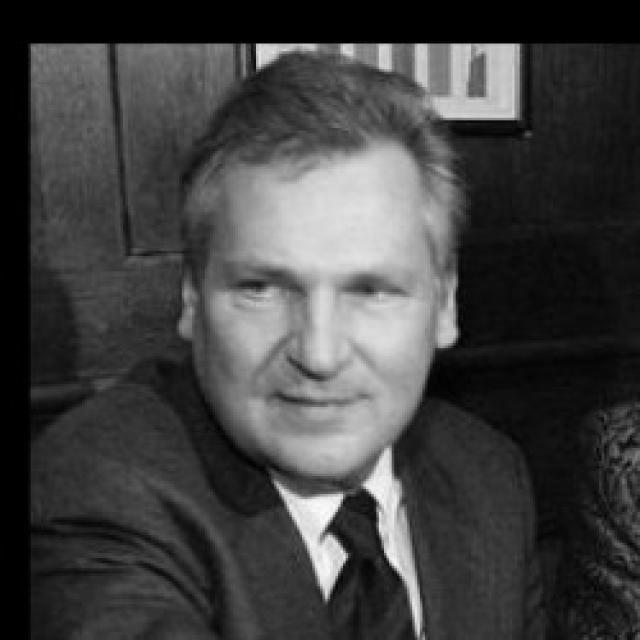real: (196, 142, 439, 472), (225, 251, 420, 320)
